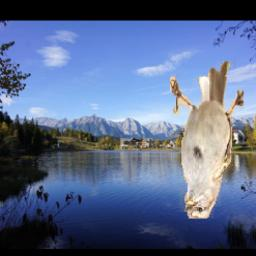Sparrow: (171, 62, 245, 219)
